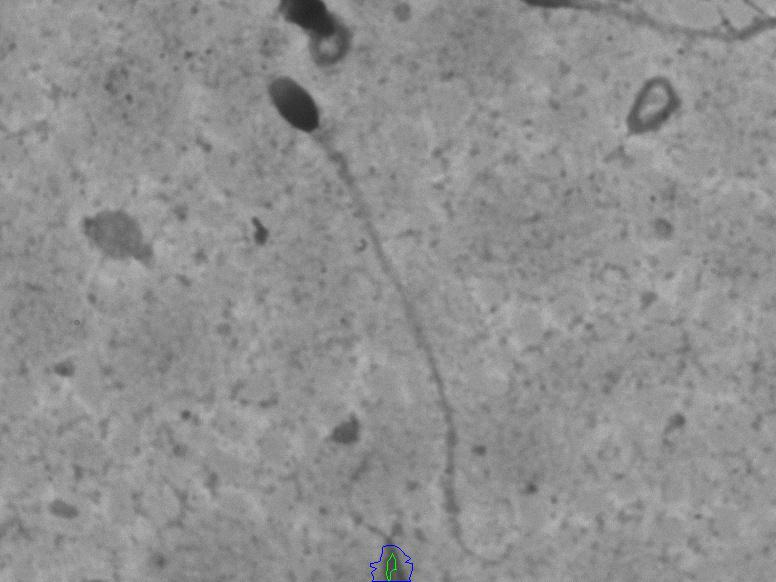Normal: (194, 74, 544, 568)
